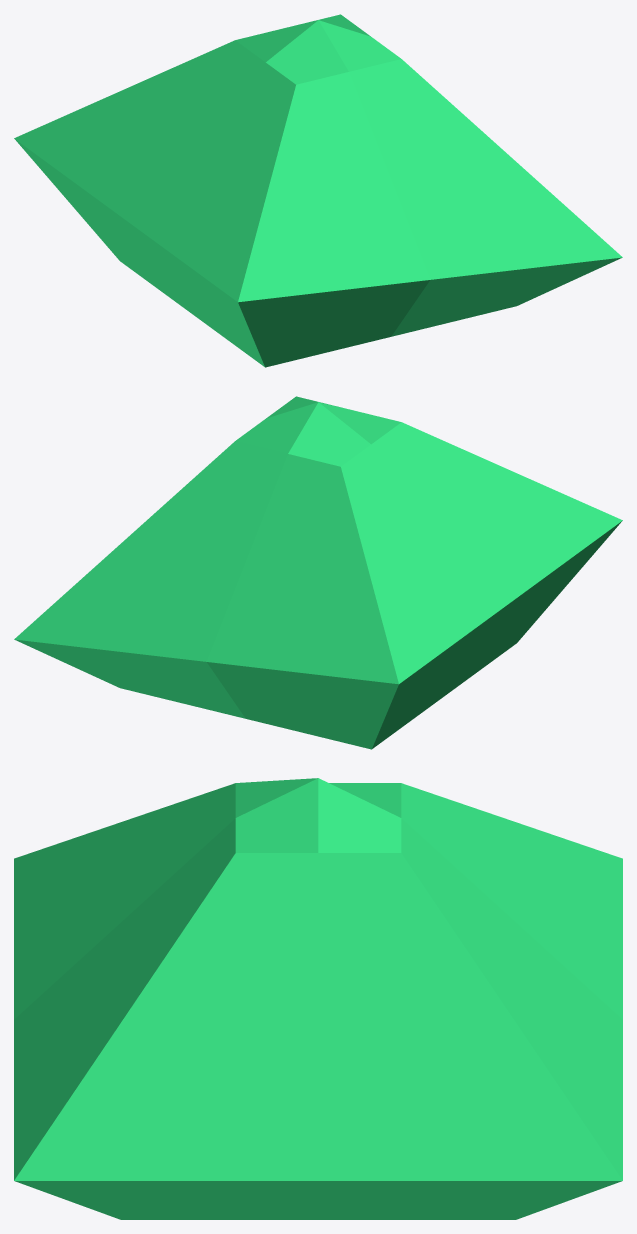
File: testThing.glb
The picture shows the model from 3 angles, top to bottom: view 1: azimuth 30°, elevation 25°; view 2: azimuth 150°, elevation 25°; view 3: azimuth 270°, elevation 25°; orthographic projection. The views are drawn at different scales.
Visible parts, largest first — view 1: Cube; view 2: Cube; view 3: Cube.
Part boxes in pixels (x1,y1,x2,y2): Cube: (14, 14, 622, 367); Cube: (14, 396, 622, 749); Cube: (14, 778, 622, 1219).
Bounding box in the file's own units: 3.06 × 2 × 3.08.
